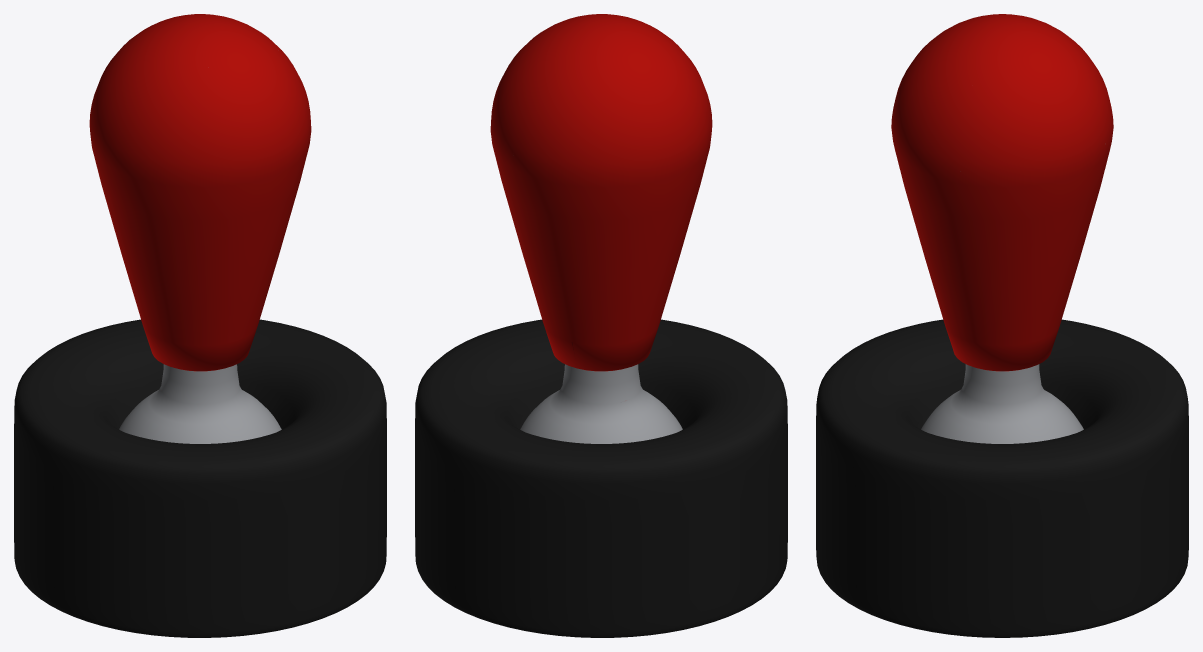
Rendered from toggle.glb.
3 views of the same model, side by side, from view 1: azimuth 30°, elevation 25°; view 2: azimuth 150°, elevation 25°; view 3: azimuth 270°, elevation 25° (orthographic).
Parts seen in each view (by area): view 1: Cylinder.005, Sphere.003; view 2: Cylinder.005, Sphere.003; view 3: Cylinder.005, Sphere.003.
Boxes of the visible parts, <box> form: Cylinder.005: <box>14,319,386,637</box>; Sphere.003: <box>89,14,311,443</box>; Cylinder.005: <box>415,319,787,637</box>; Sphere.003: <box>490,14,712,443</box>; Cylinder.005: <box>816,319,1188,637</box>; Sphere.003: <box>891,14,1113,443</box>.
Size of the model in its own units: 0.00975 by 0.0155 by 0.00975.
2 materials, 1 textured.
